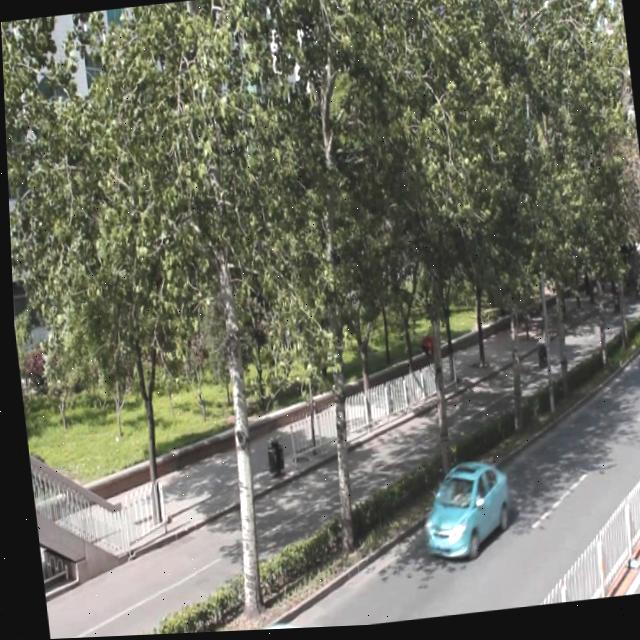car: (412, 460, 509, 567), (194, 616, 336, 634)
